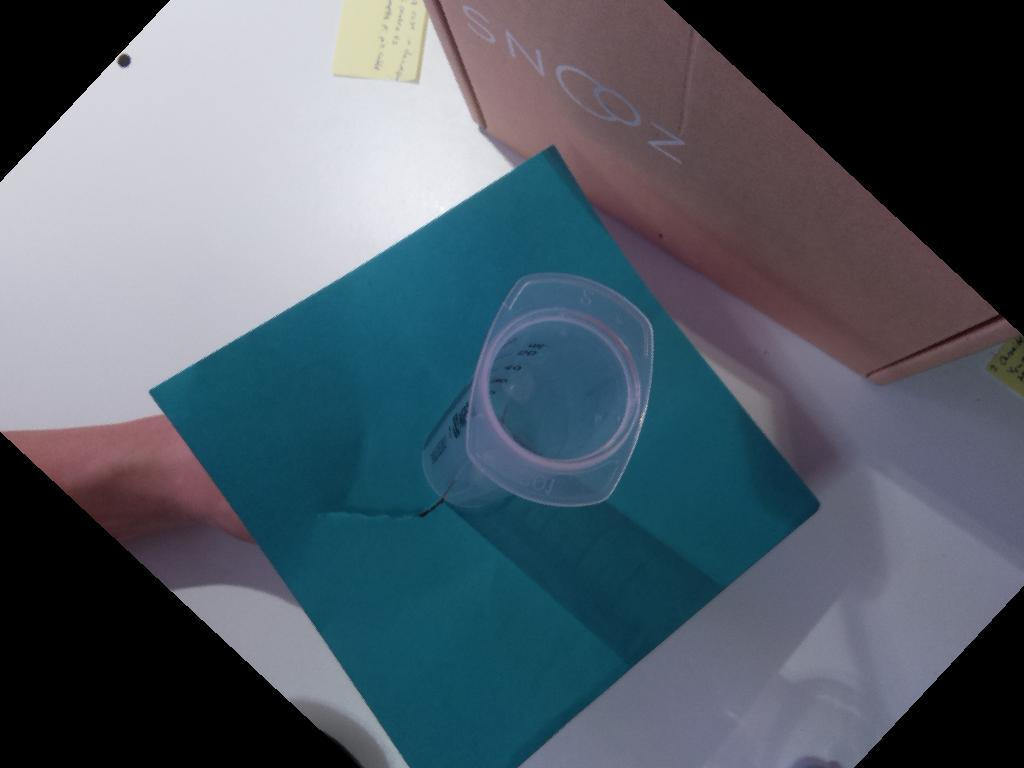clean: (463, 274, 657, 507)
